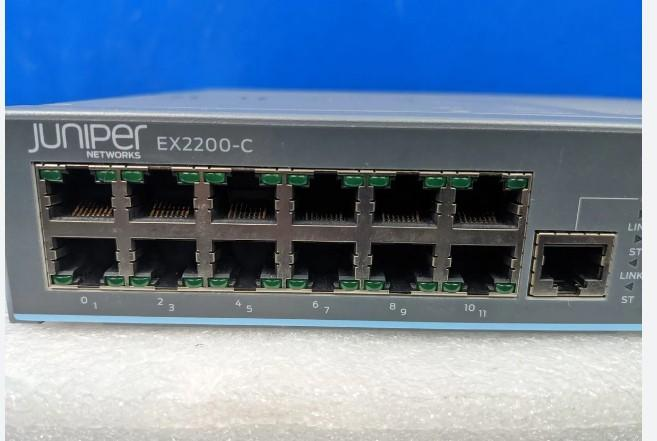NetworkSwitch: (0, 89, 642, 337)
